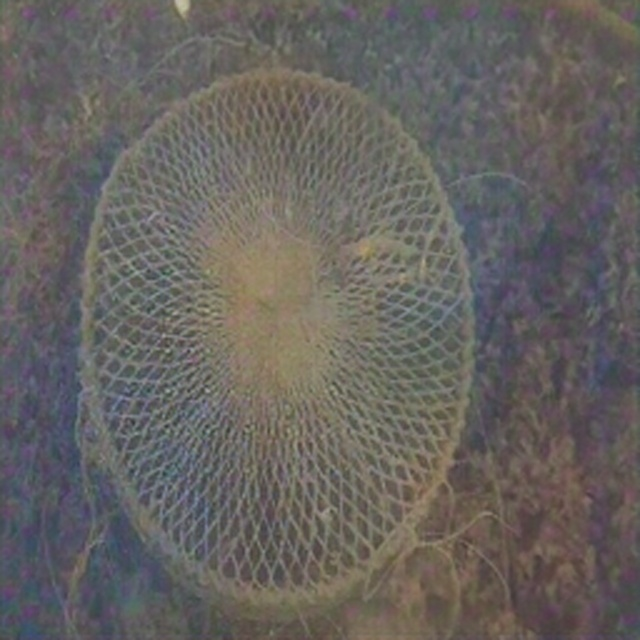mine: (78, 64, 474, 623)
